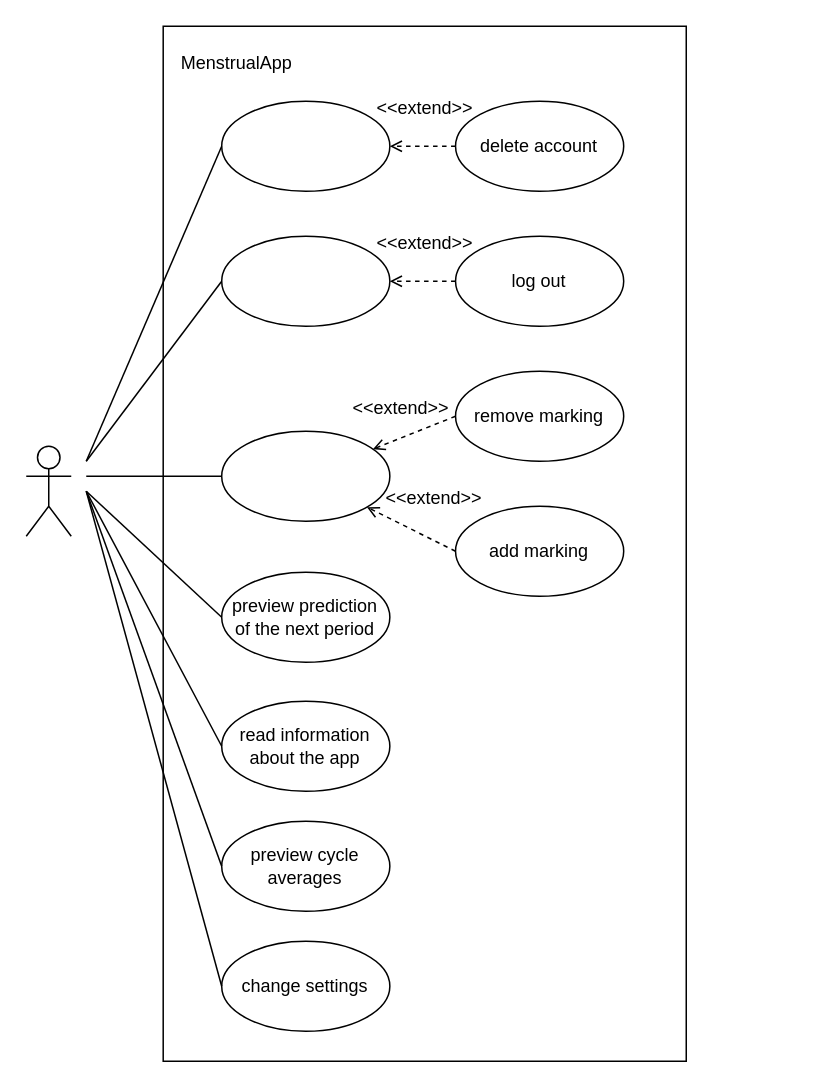
Image size: 833x1088. Some labels were removed from this diagram. The shapes that lost their labels are listed below. From the top down, each one's centre as x and y in pixels, then its label:
the point at 305,145: create account
the point at 305,280: login
the point at 48,490: User
the point at 305,475: preview menstrual cycle in calendar
